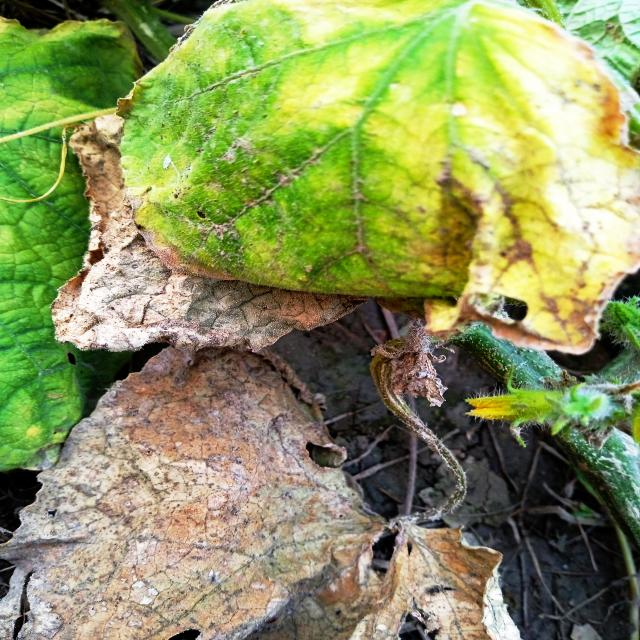Bacterial-Wilt: (0, 346, 525, 639), (52, 114, 363, 355)
